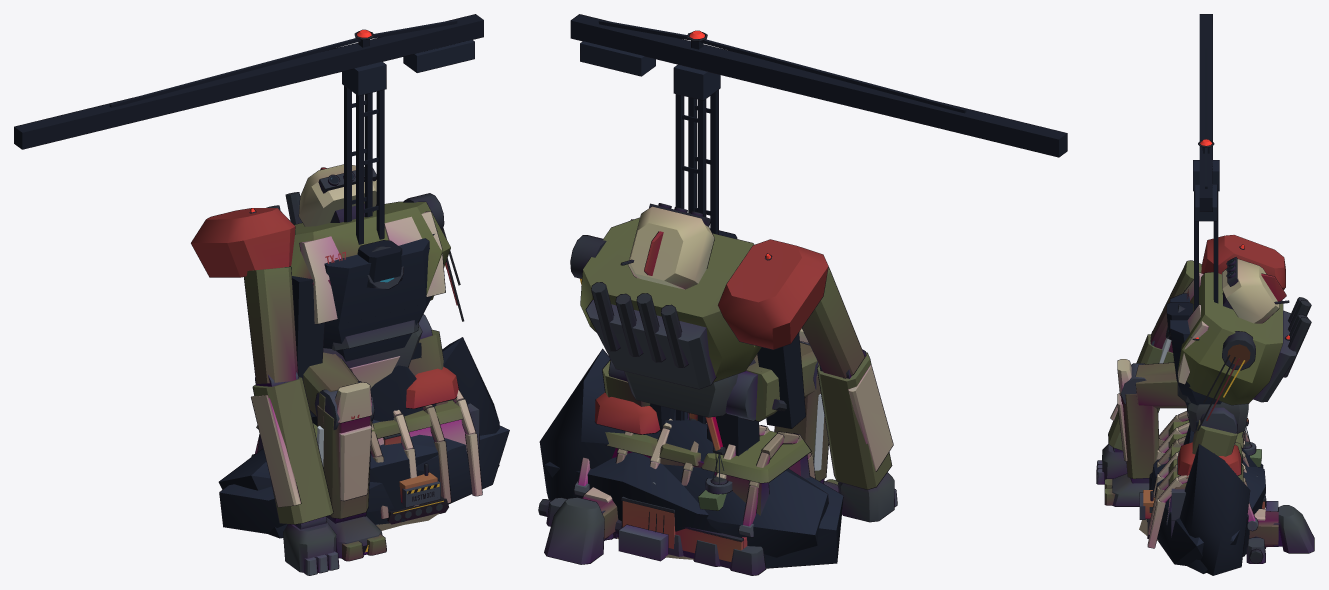
The model's file is fps-kit-scrapyard.glb.
3 renders of one model, left to right at view 1: azimuth 30°, elevation 25°; view 2: azimuth 150°, elevation 25°; view 3: azimuth 270°, elevation 25°, orthographic. The views are drawn at different scales.
Parts seen in each view (by area): view 1: KIT_SCRAPYARD_Landmark_Titan, KIT_SCRAPYARD_Backdrop_Crane, KIT_SCRAPYARD_Landmark_TitanUpper, KIT_SCRAPYARD_Backdrop_Titan, KIT_SCRAPYARD_Backdrop_Heap_A, KIT_SCRAPYARD_Backdrop_Heap_B, KIT_SCRAPYARD_Landmark_Torso, KIT_SCRAPYARD_Landmark_Ribs, KIT_SCRAPYARD_Landmark_Crane; view 2: KIT_SCRAPYARD_Landmark_TitanUpper, KIT_SCRAPYARD_Landmark_Titan, KIT_SCRAPYARD_Backdrop_Crane, KIT_SCRAPYARD_Backdrop_Heap_A, KIT_SCRAPYARD_Backdrop_Heap_B, KIT_SCRAPYARD_Landmark_Torso, KIT_SCRAPYARD_Landmark_Ribs, KIT_SCRAPYARD_Landmark_Baler, KIT_SCRAPYARD_Backdrop_Titan, KIT_SCRAPYARD_Landmark_Crane; view 3: KIT_SCRAPYARD_Landmark_TitanUpper, KIT_SCRAPYARD_Landmark_Titan, KIT_SCRAPYARD_Backdrop_Heap_A, KIT_SCRAPYARD_Backdrop_Crane, KIT_SCRAPYARD_Landmark_Ribs, KIT_SCRAPYARD_Landmark_Torso, KIT_SCRAPYARD_Backdrop_Heap_B, KIT_SCRAPYARD_Backdrop_Titan, KIT_SCRAPYARD_Landmark_Crane.
Boxes of the visible parts, left/top/right/bottom form: KIT_SCRAPYARD_Landmark_Titan: left=244, top=266, right=448, bottom=575; KIT_SCRAPYARD_Backdrop_Crane: left=14, top=14, right=483, bottom=244; KIT_SCRAPYARD_Landmark_TitanUpper: left=191, top=164, right=464, bottom=350; KIT_SCRAPYARD_Backdrop_Titan: left=292, top=230, right=437, bottom=425; KIT_SCRAPYARD_Backdrop_Heap_A: left=219, top=337, right=499, bottom=533; KIT_SCRAPYARD_Backdrop_Heap_B: left=218, top=365, right=509, bottom=538; KIT_SCRAPYARD_Landmark_Torso: left=256, top=367, right=479, bottom=453; KIT_SCRAPYARD_Landmark_Ribs: left=251, top=390, right=482, bottom=519; KIT_SCRAPYARD_Landmark_Crane: left=383, top=433, right=448, bottom=524; KIT_SCRAPYARD_Landmark_TitanUpper: left=570, top=203, right=828, bottom=389; KIT_SCRAPYARD_Landmark_Titan: left=544, top=267, right=897, bottom=564; KIT_SCRAPYARD_Backdrop_Crane: left=570, top=14, right=1067, bottom=423; KIT_SCRAPYARD_Backdrop_Heap_A: left=539, top=348, right=843, bottom=568; KIT_SCRAPYARD_Backdrop_Heap_B: left=646, top=408, right=828, bottom=557; KIT_SCRAPYARD_Landmark_Torso: left=594, top=392, right=811, bottom=515; KIT_SCRAPYARD_Landmark_Ribs: left=538, top=418, right=815, bottom=575; KIT_SCRAPYARD_Landmark_Baler: left=613, top=482, right=747, bottom=568; KIT_SCRAPYARD_Backdrop_Titan: left=649, top=228, right=805, bottom=456; KIT_SCRAPYARD_Landmark_Crane: left=689, top=413, right=732, bottom=510; KIT_SCRAPYARD_Landmark_TitanUpper: left=1165, top=235, right=1311, bottom=430; KIT_SCRAPYARD_Landmark_Titan: left=1096, top=260, right=1314, bottom=553; KIT_SCRAPYARD_Backdrop_Heap_A: left=1146, top=444, right=1265, bottom=575; KIT_SCRAPYARD_Backdrop_Crane: left=1193, top=14, right=1219, bottom=310; KIT_SCRAPYARD_Landmark_Ribs: left=1147, top=411, right=1265, bottom=563; KIT_SCRAPYARD_Landmark_Torso: left=1166, top=420, right=1243, bottom=537; KIT_SCRAPYARD_Backdrop_Heap_B: left=1149, top=424, right=1263, bottom=565; KIT_SCRAPYARD_Backdrop_Titan: left=1166, top=290, right=1221, bottom=432; KIT_SCRAPYARD_Landmark_Crane: left=1139, top=418, right=1261, bottom=538.
Size of the model in its own units: 42.14 by 39.39 by 20.09.
Materials: 1 (1 with a texture image).
